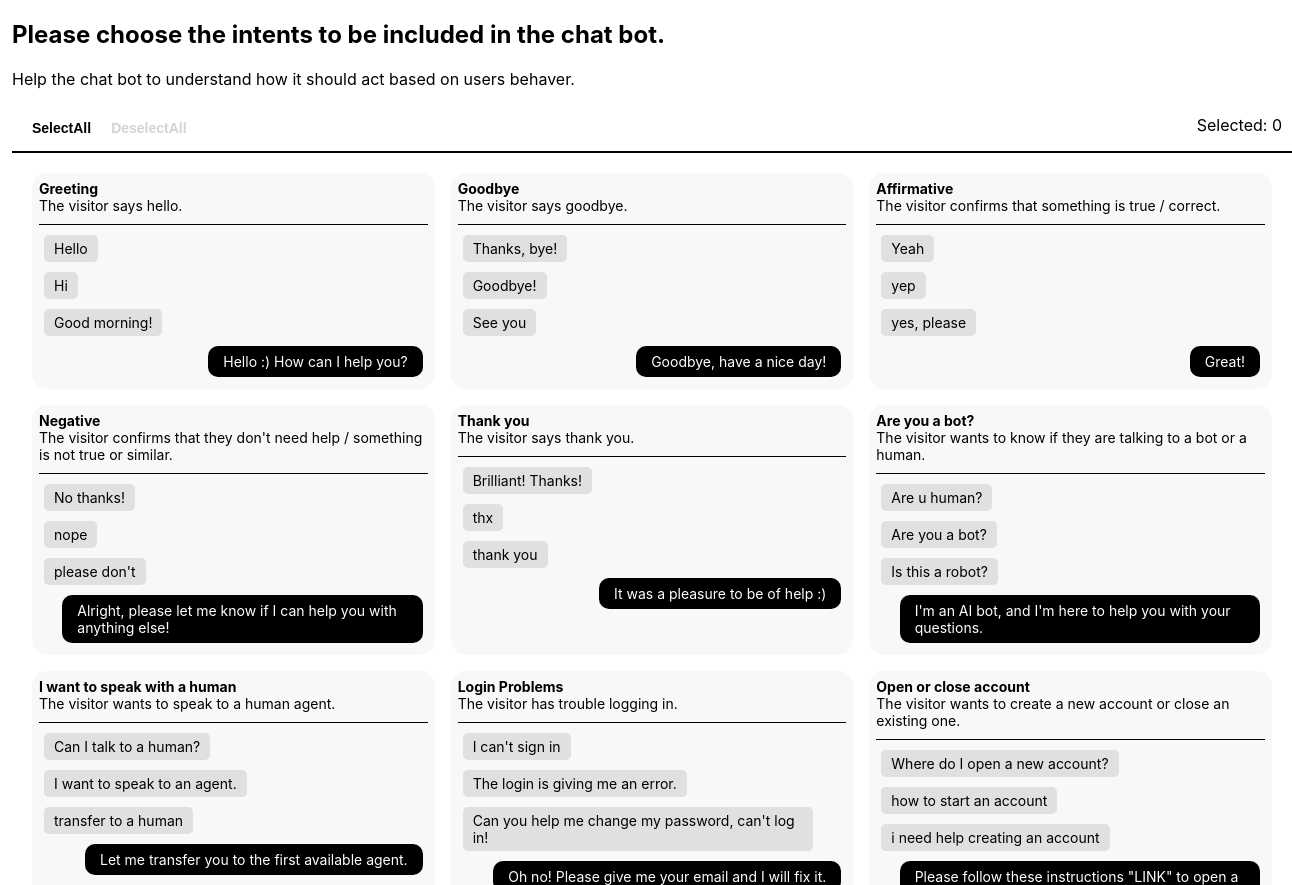
Test: Intents › Should be able to unselect one item
This screenshot has width=1292, height=885.
// Select the first unselected element
Click the element with test id "unselected" that starts with "Greeting" at (233, 281), box top-left (32, 173), bottom-right (435, 389)
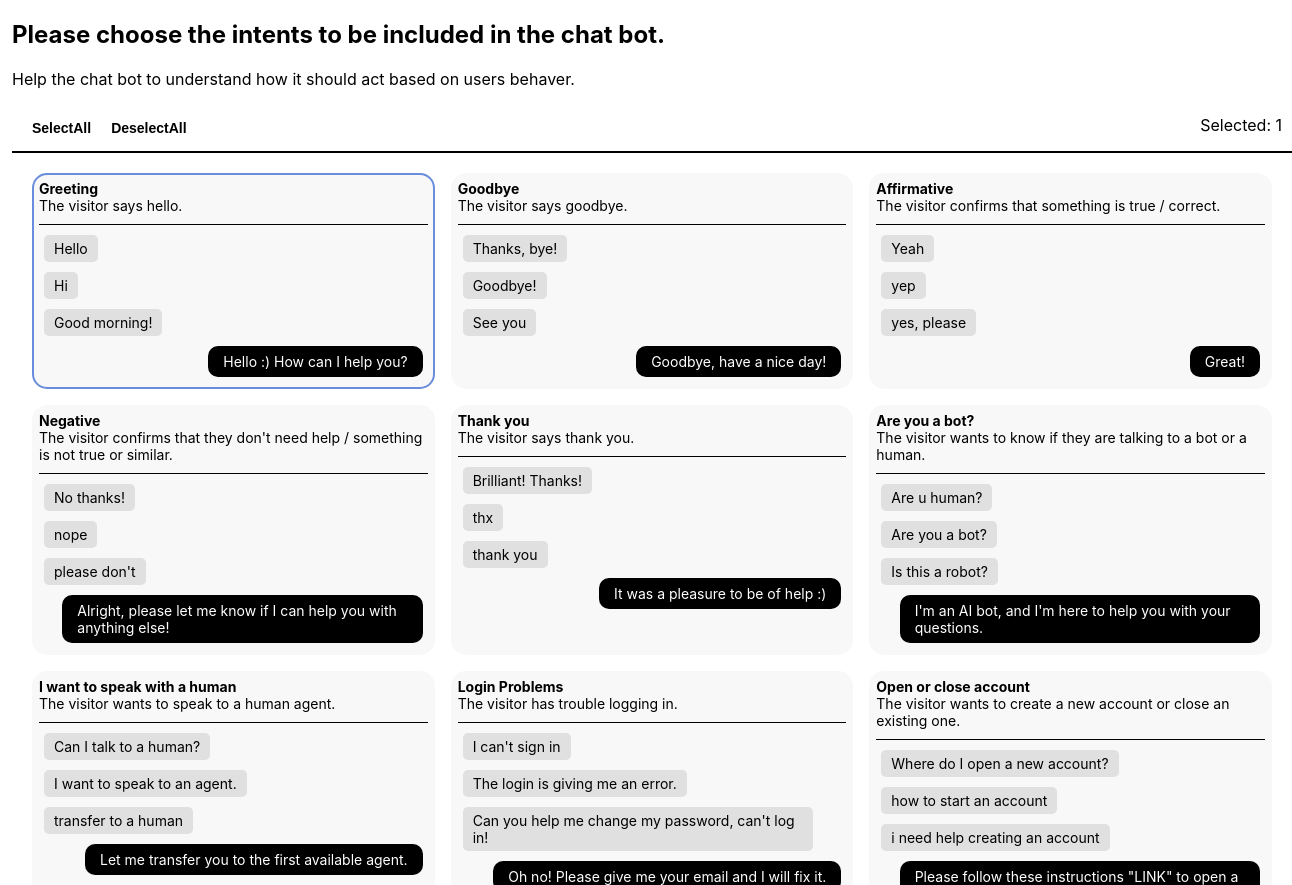
// Clicking again the same item in order to unselect it
Click the element with test id "unselected" at (233, 281), box top-left (32, 173), bottom-right (435, 389)
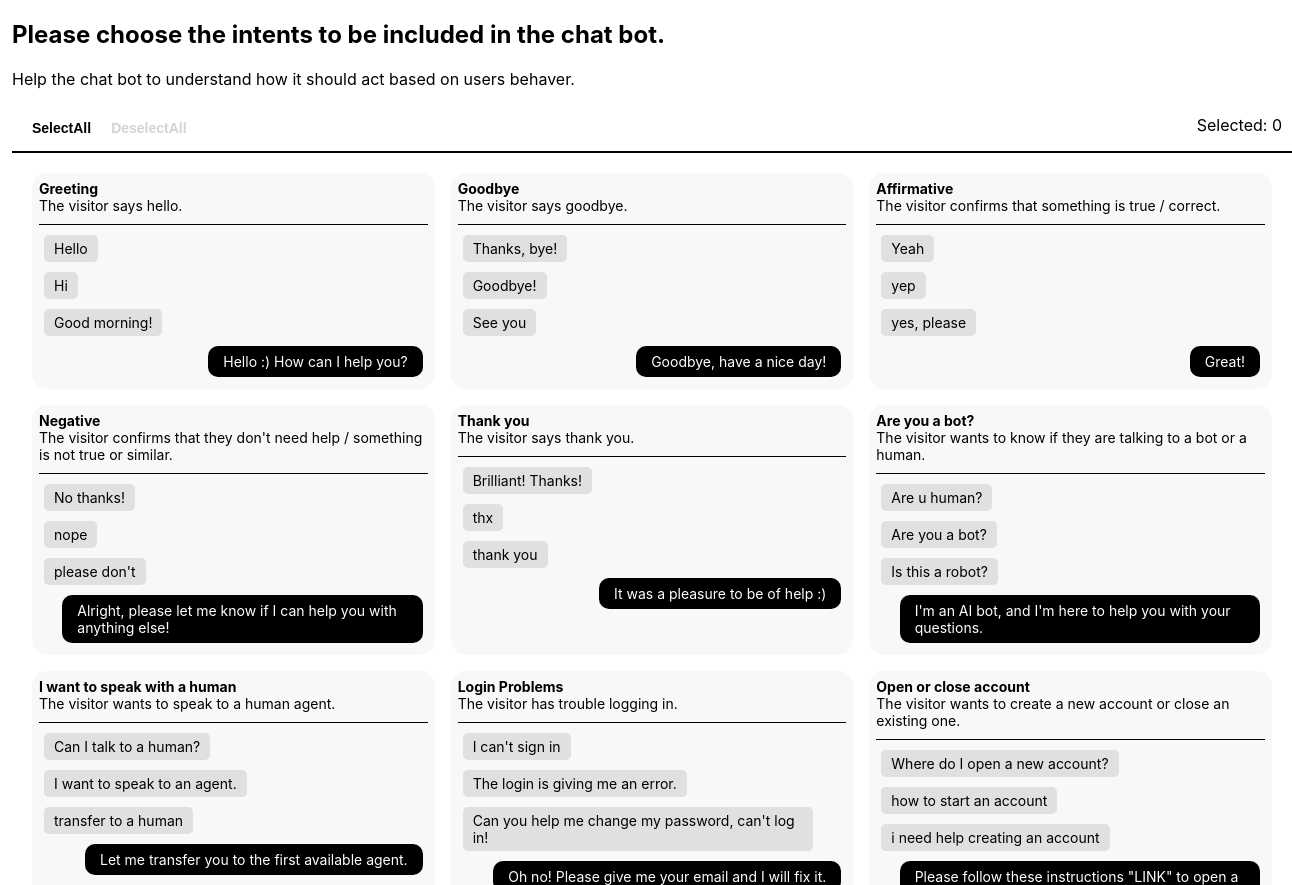
Check: the number of elements with test id "unselected" is 9
